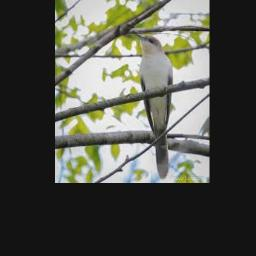Cuckoo: (134, 34, 172, 178)
